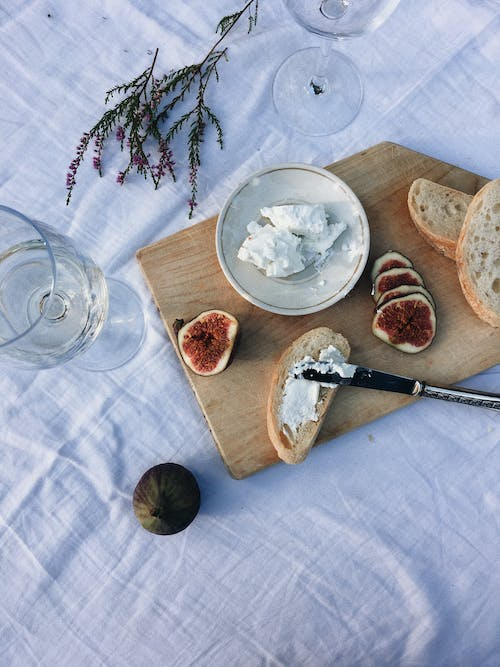alcohol: (0, 199, 148, 376), (268, 0, 408, 140)
knife: (300, 358, 500, 415)
